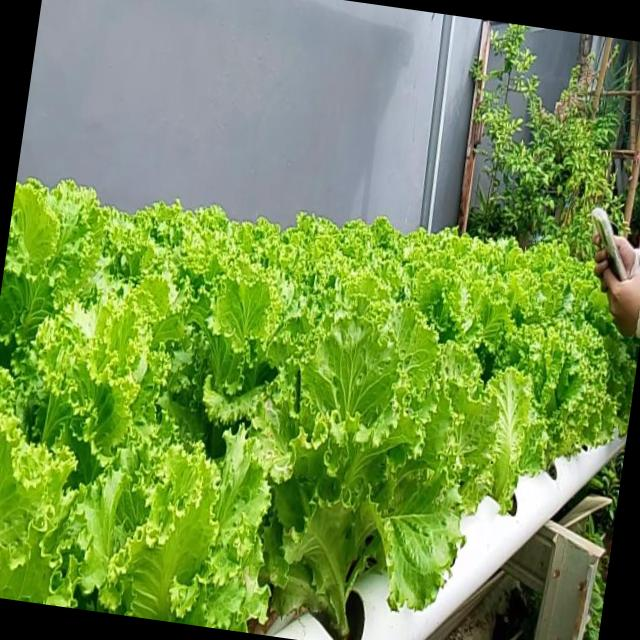Mature: (0, 177, 640, 639), (250, 328, 448, 625), (479, 286, 630, 495)
